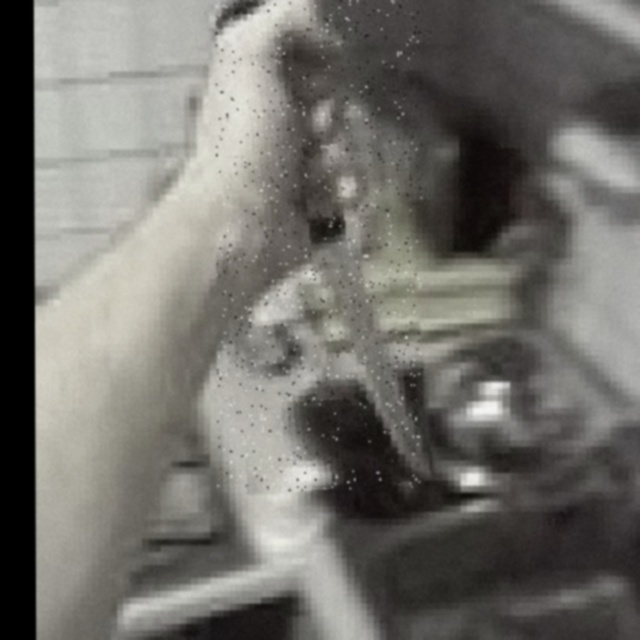Sharp-Object: (215, 0, 423, 492)
